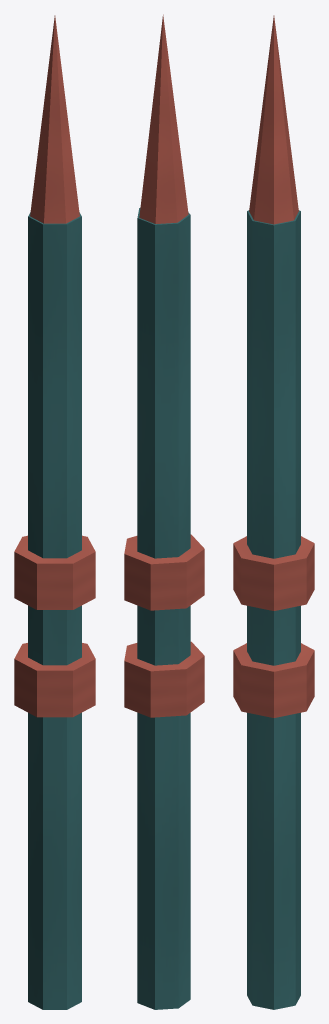
The model's file is atlas100-s031-a05.lod1.glb.
The picture shows the model from 3 angles, left to right: view 1: azimuth 90°, elevation 25°; view 2: azimuth 150°, elevation 25°; view 3: azimuth 270°, elevation 25°; orthographic projection.
Visible parts, largest first — view 1: atlas100-s031-a05:part-000, atlas100-s031-a05:part-004, atlas100-s031-a05:part-002, atlas100-s031-a05:part-003; view 2: atlas100-s031-a05:part-000, atlas100-s031-a05:part-004, atlas100-s031-a05:part-002, atlas100-s031-a05:part-003; view 3: atlas100-s031-a05:part-000, atlas100-s031-a05:part-004, atlas100-s031-a05:part-002, atlas100-s031-a05:part-003.
Boxes of the visible parts, left/top/right/bottom form: atlas100-s031-a05:part-000: left=28, top=212, right=81, bottom=1009; atlas100-s031-a05:part-004: left=30, top=15, right=79, bottom=223; atlas100-s031-a05:part-002: left=14, top=643, right=95, bottom=717; atlas100-s031-a05:part-003: left=14, top=535, right=95, bottom=609; atlas100-s031-a05:part-000: left=137, top=208, right=190, bottom=1009; atlas100-s031-a05:part-004: left=139, top=14, right=188, bottom=223; atlas100-s031-a05:part-002: left=124, top=641, right=204, bottom=717; atlas100-s031-a05:part-003: left=124, top=534, right=204, bottom=610; atlas100-s031-a05:part-000: left=247, top=210, right=300, bottom=1009; atlas100-s031-a05:part-004: left=249, top=15, right=298, bottom=224; atlas100-s031-a05:part-002: left=233, top=643, right=314, bottom=717; atlas100-s031-a05:part-003: left=233, top=536, right=314, bottom=610.
Bounding box in the file's own units: 0.11 × 1.51 × 0.1128.
2 materials, 2 textured.
